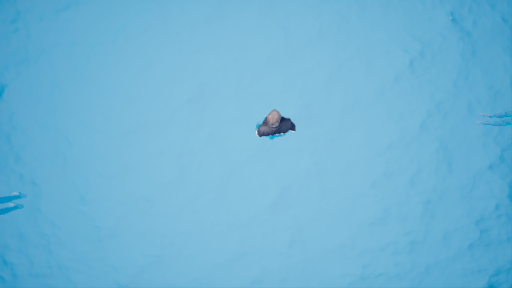person: (248, 104, 307, 148)
